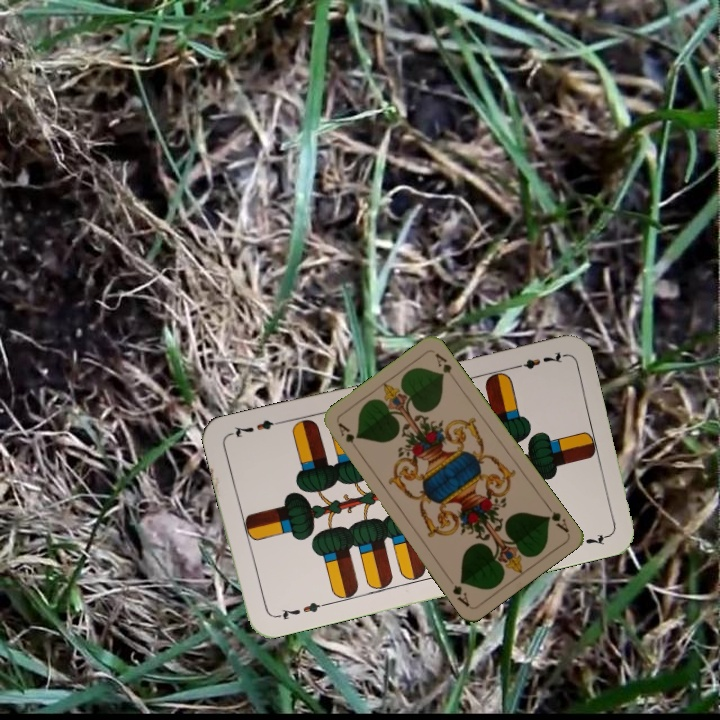E7: (270, 598, 328, 623), (508, 347, 566, 372)
GA: (541, 500, 572, 536), (334, 419, 361, 455)
